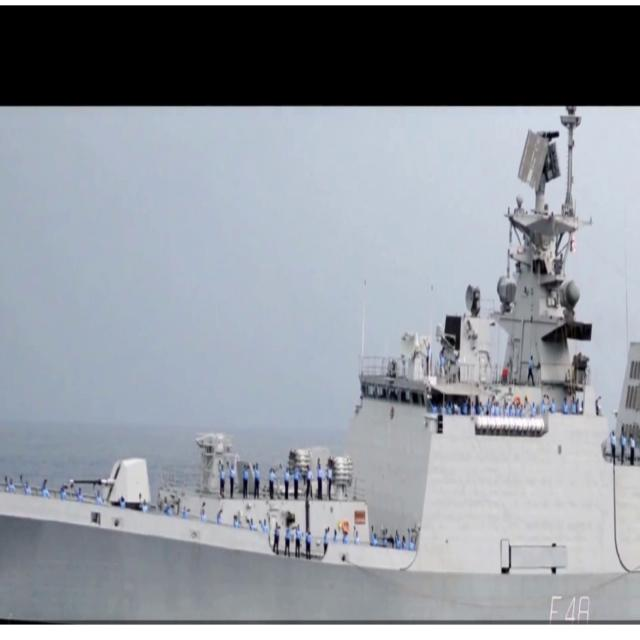OCR: (543, 586, 596, 623)
